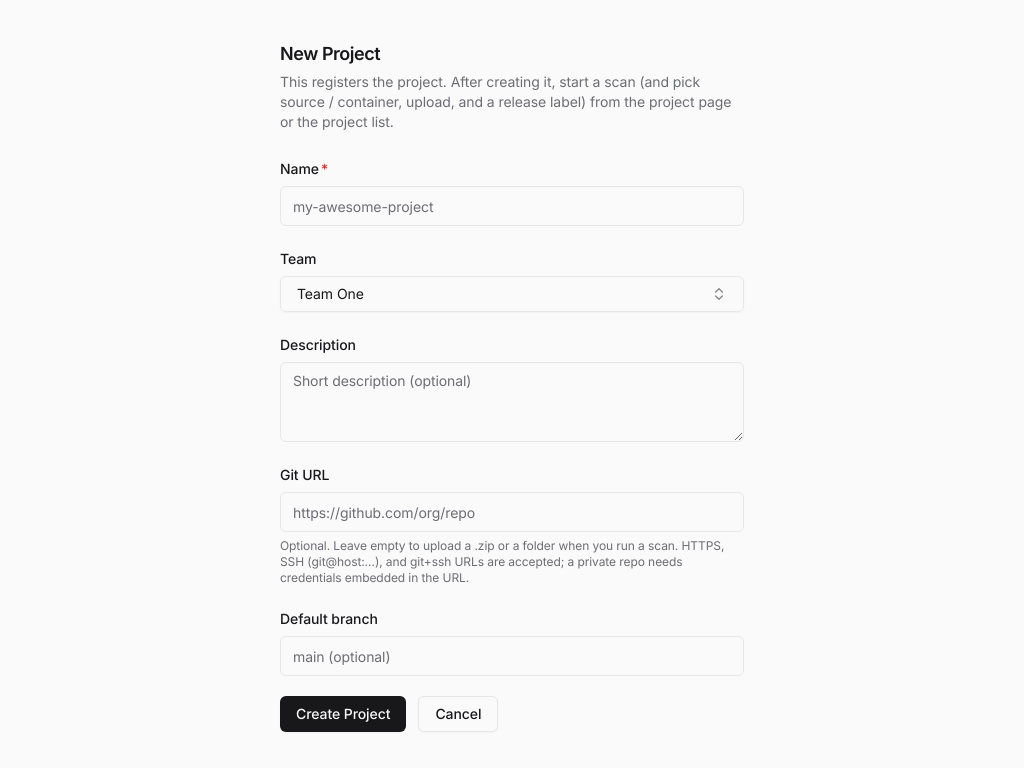
Test: ProjectCreatePage › does not search below the 2-character floor, mirroring the backend's own
Click the dropdown with test id "project-team-combobox-trigger" at x=330, y=294, box [280,276,744,312]
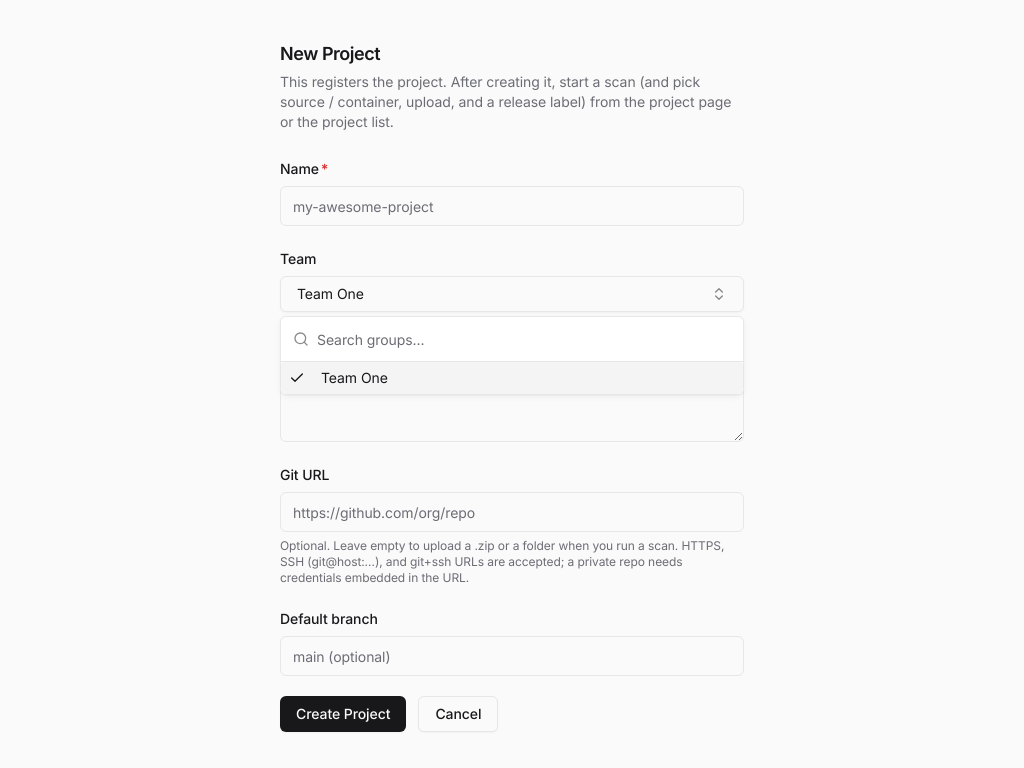
Type "a" into the dropdown with test id "project-team-combobox-search" at x=524, y=339, box [317,317,731,361]
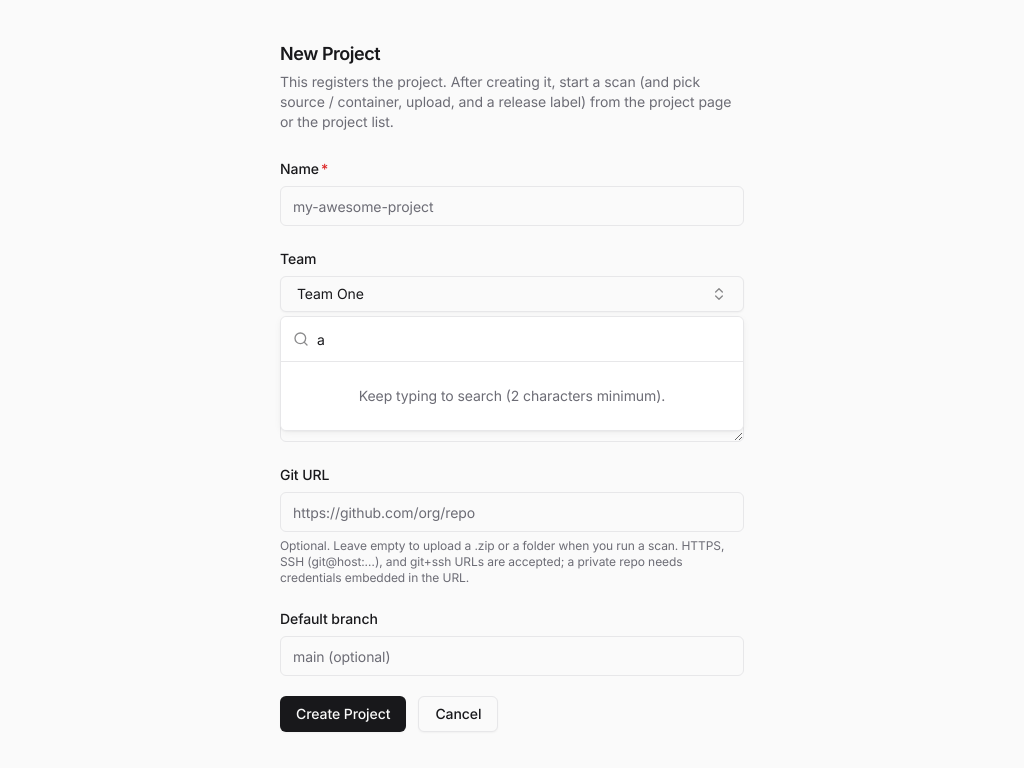
Check: the text "Keep typing to search (2 characters minimum)." is shown, box [359,387,665,404]
